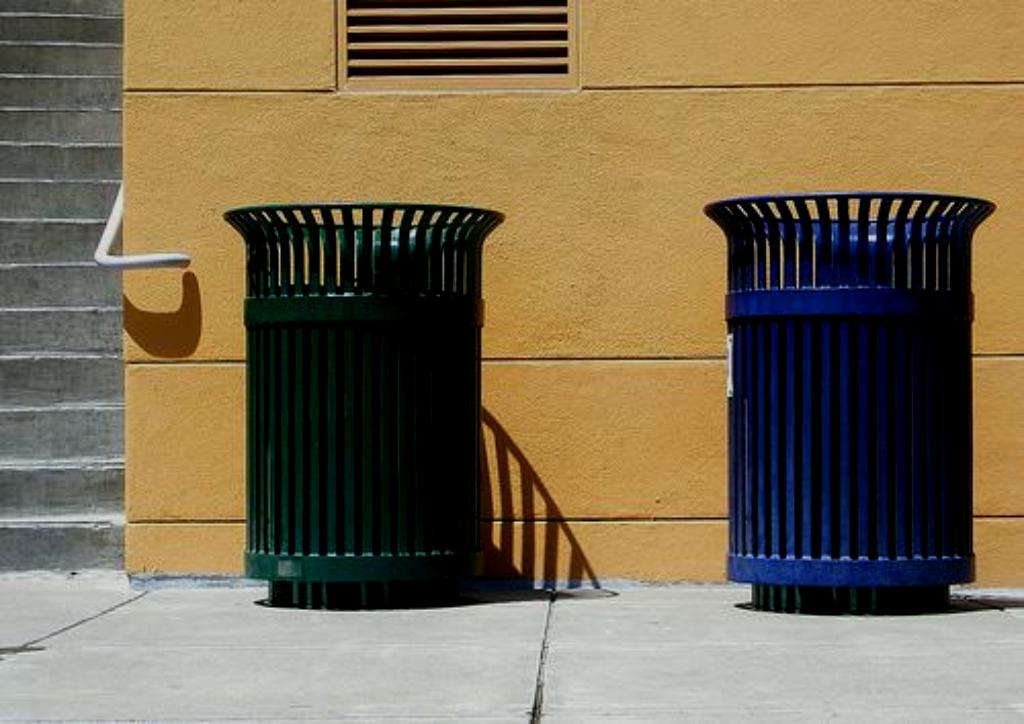dustbin: (700, 187, 1007, 613), (222, 192, 503, 597)
